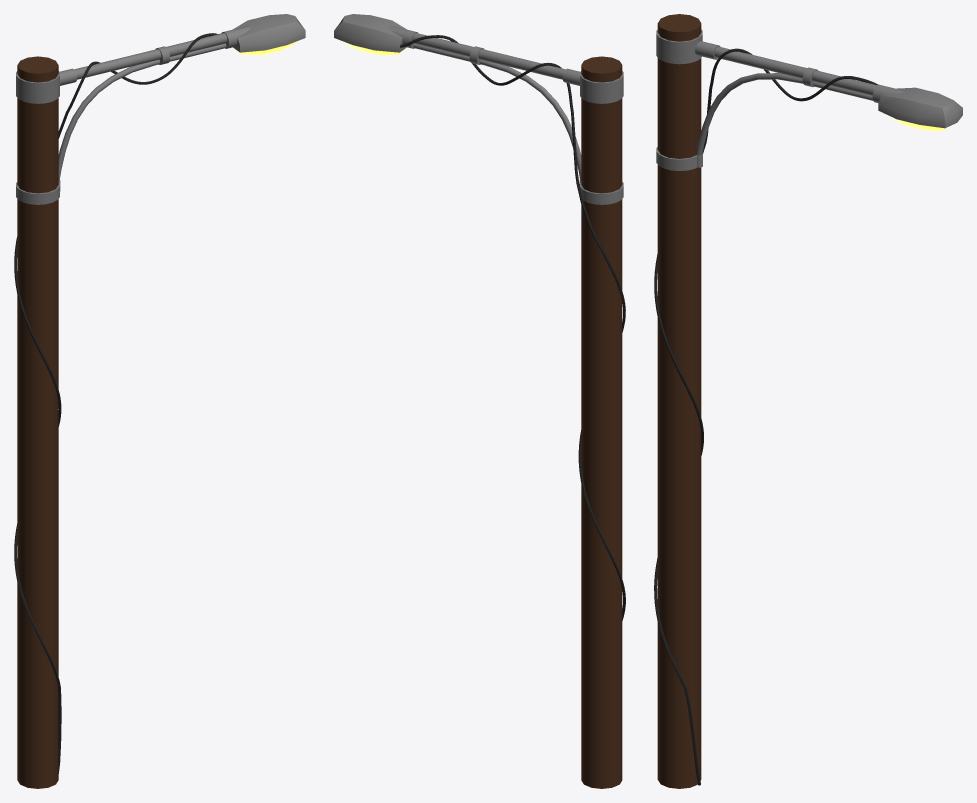
Rendered from Street_Modern_L_Wooden.fbx.
The picture shows the model from 3 angles, left to right: view 1: azimuth 30°, elevation 25°; view 2: azimuth 150°, elevation 25°; view 3: azimuth 330°, elevation 25°; orthographic projection. The views are drawn at different scales.
Visible parts, largest first — view 1: Street_Modern_L_Wooden_LOD0; view 2: Street_Modern_L_Wooden_LOD0; view 3: Street_Modern_L_Wooden_LOD0.
Part boxes in pixels (<box>): Street_Modern_L_Wooden_LOD0: <box>14,14,305,788</box>; Street_Modern_L_Wooden_LOD0: <box>334,14,625,788</box>; Street_Modern_L_Wooden_LOD0: <box>654,14,962,788</box>.
Size of what is drawn, in the model's own units: 226 by 546 by 32.79.
